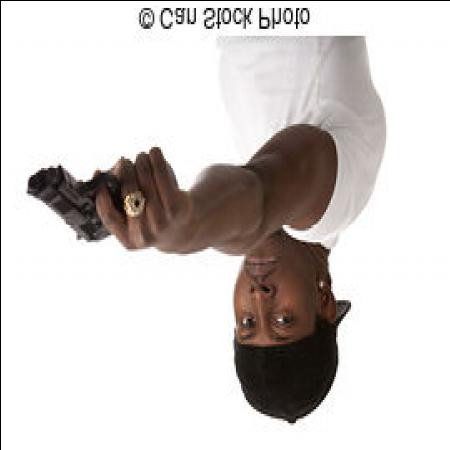Pistol: (26, 163, 162, 244)
